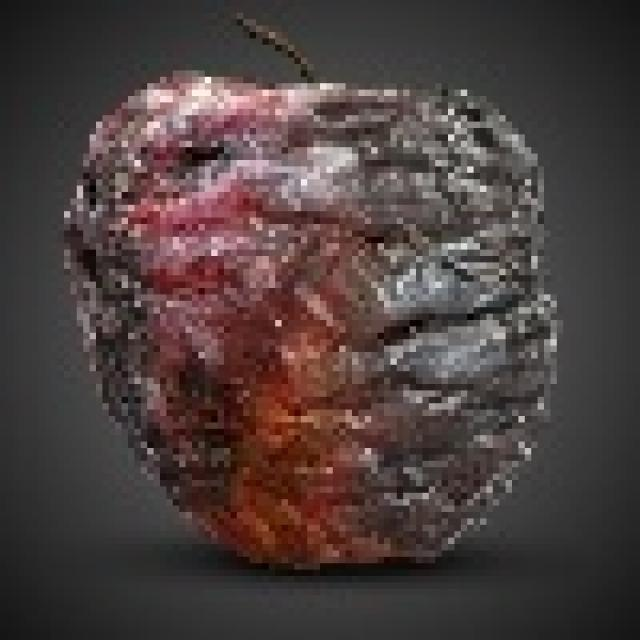Apple: (58, 12, 556, 570)
